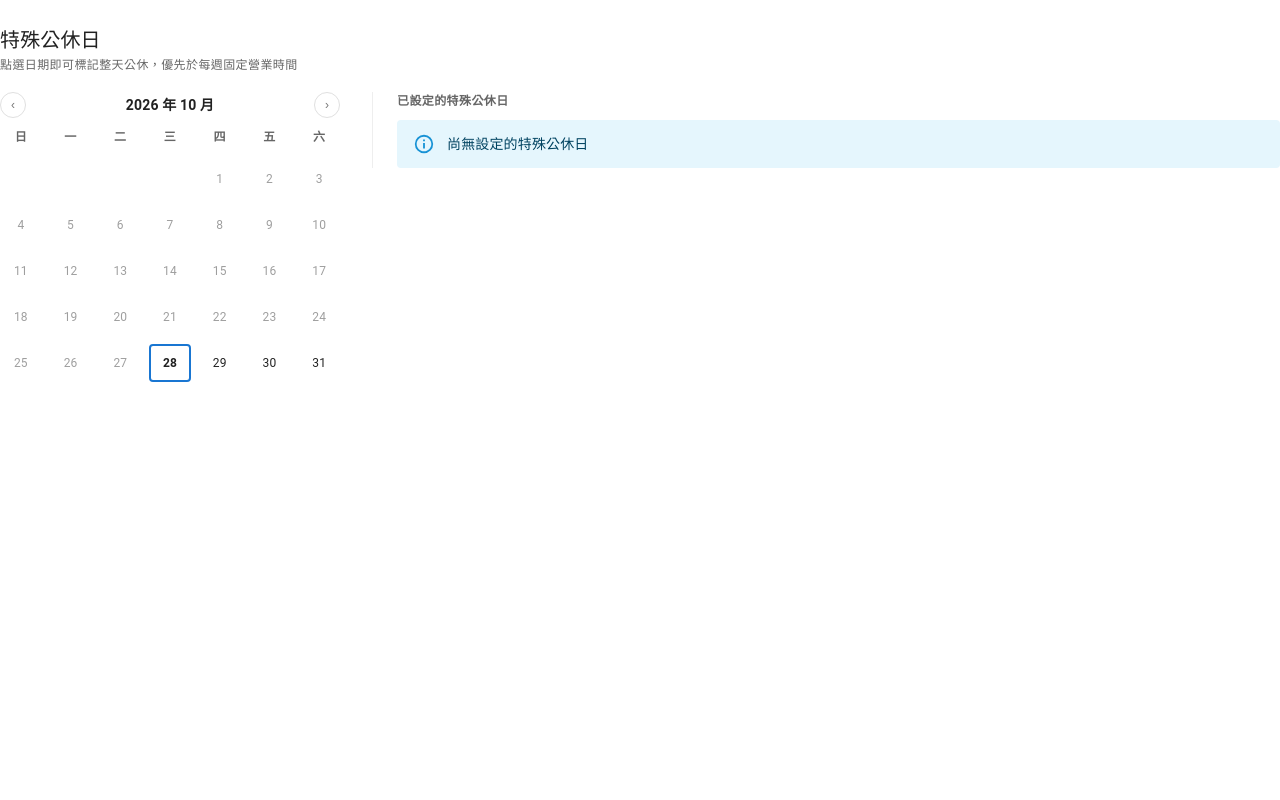
Test: ClosedDatesSection › 警告 Modal 確認新增失敗時保留 Modal 開啟，顯示錯誤 Toast
Expected: the text "尚無設定的特殊公休日" is shown, 447,136 -> 588,152
Click the button named "下個月".
click(327, 105)  # box 314,92 -> 340,118
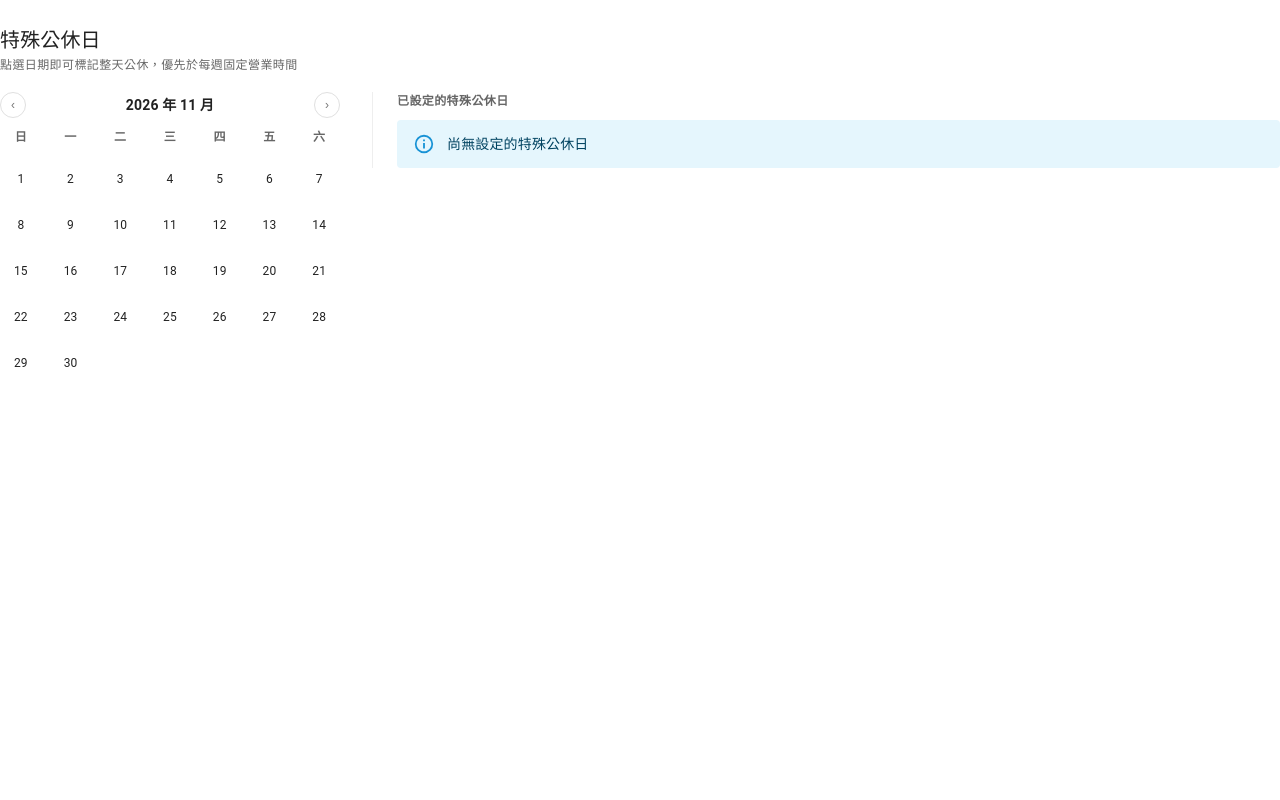
Click the button "20".
click(269, 271)  # box 249,252 -> 290,290
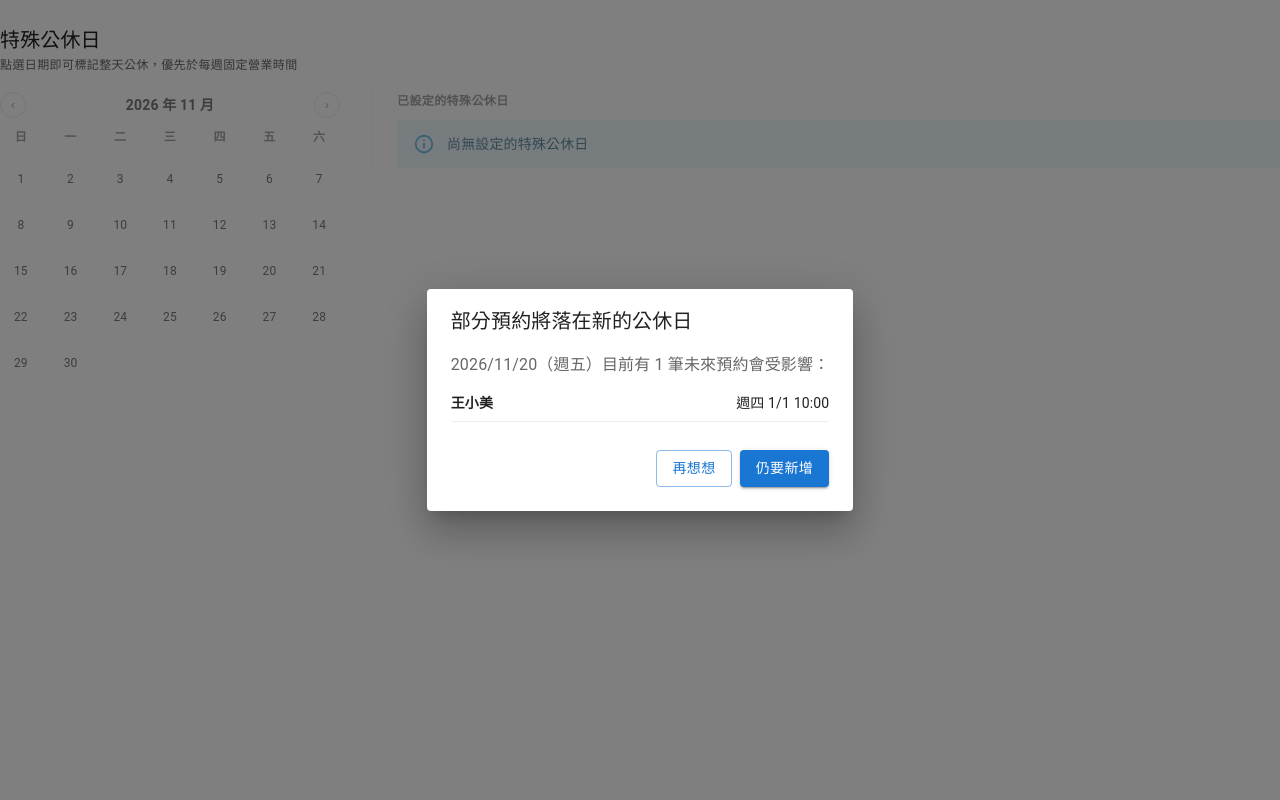
Result: the heading "部分預約將落在新的公休日" is shown at 451,309 -> 692,333
Click the button "仍要新增".
click(784, 469)  # box 740,450 -> 829,487
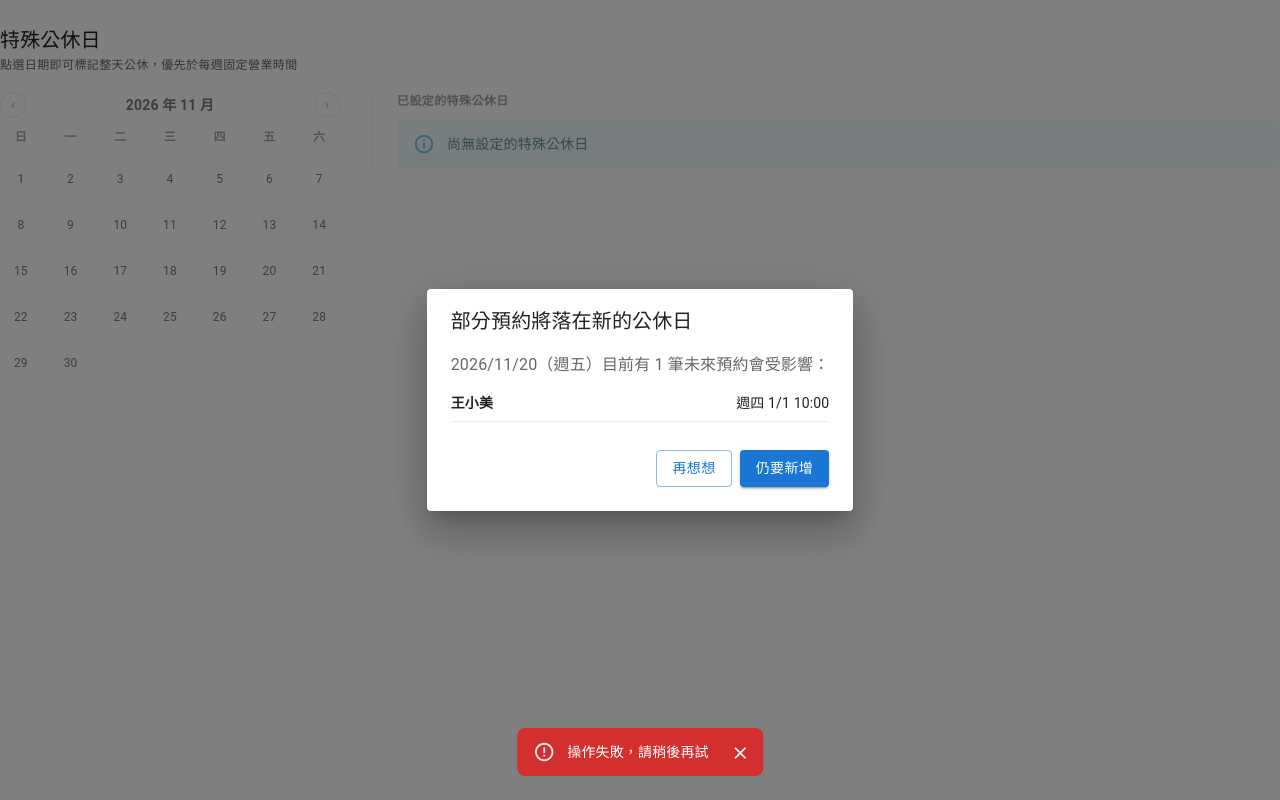
Result: the heading "部分預約將落在新的公休日" is shown at 451,309 -> 692,333
Result: the text "操作失敗，請稍後再試" is shown at 567,744 -> 709,760
